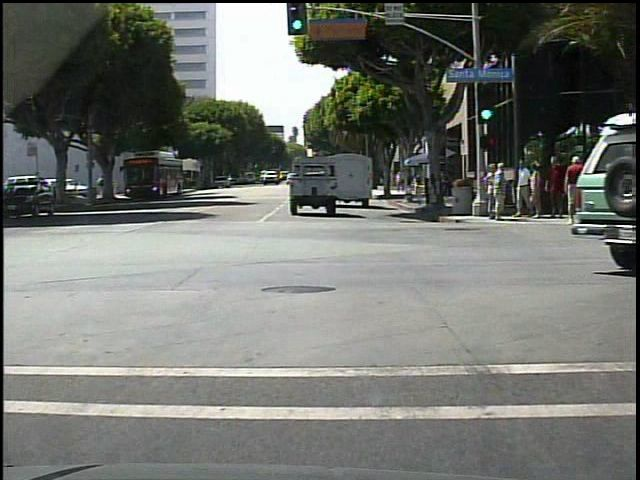person: (564, 156, 587, 230), (541, 152, 565, 219), (604, 163, 624, 225), (516, 159, 537, 218), (590, 165, 610, 224), (491, 160, 508, 221), (528, 163, 544, 220), (486, 163, 498, 219), (102, 176, 113, 201), (96, 175, 106, 198), (395, 170, 404, 193)
